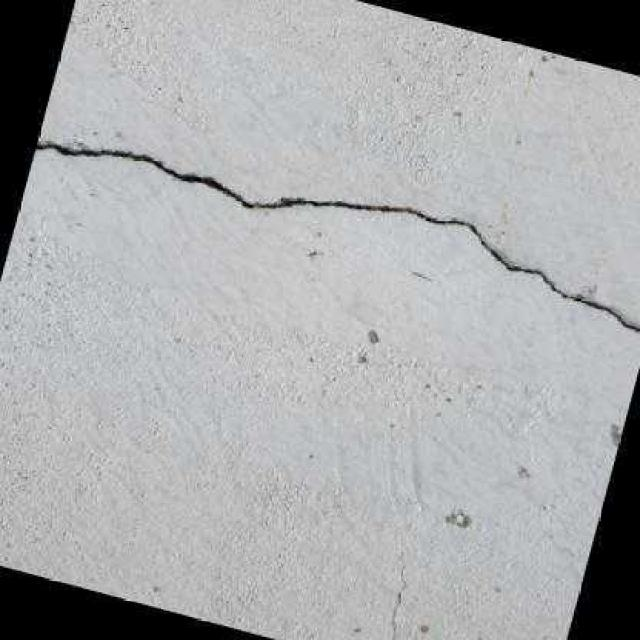D00: (35, 142, 640, 331)
